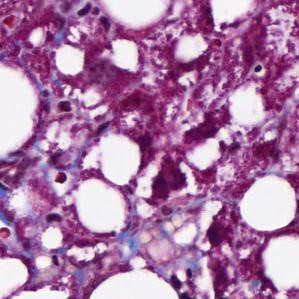inflammation: (75, 0, 116, 33)
